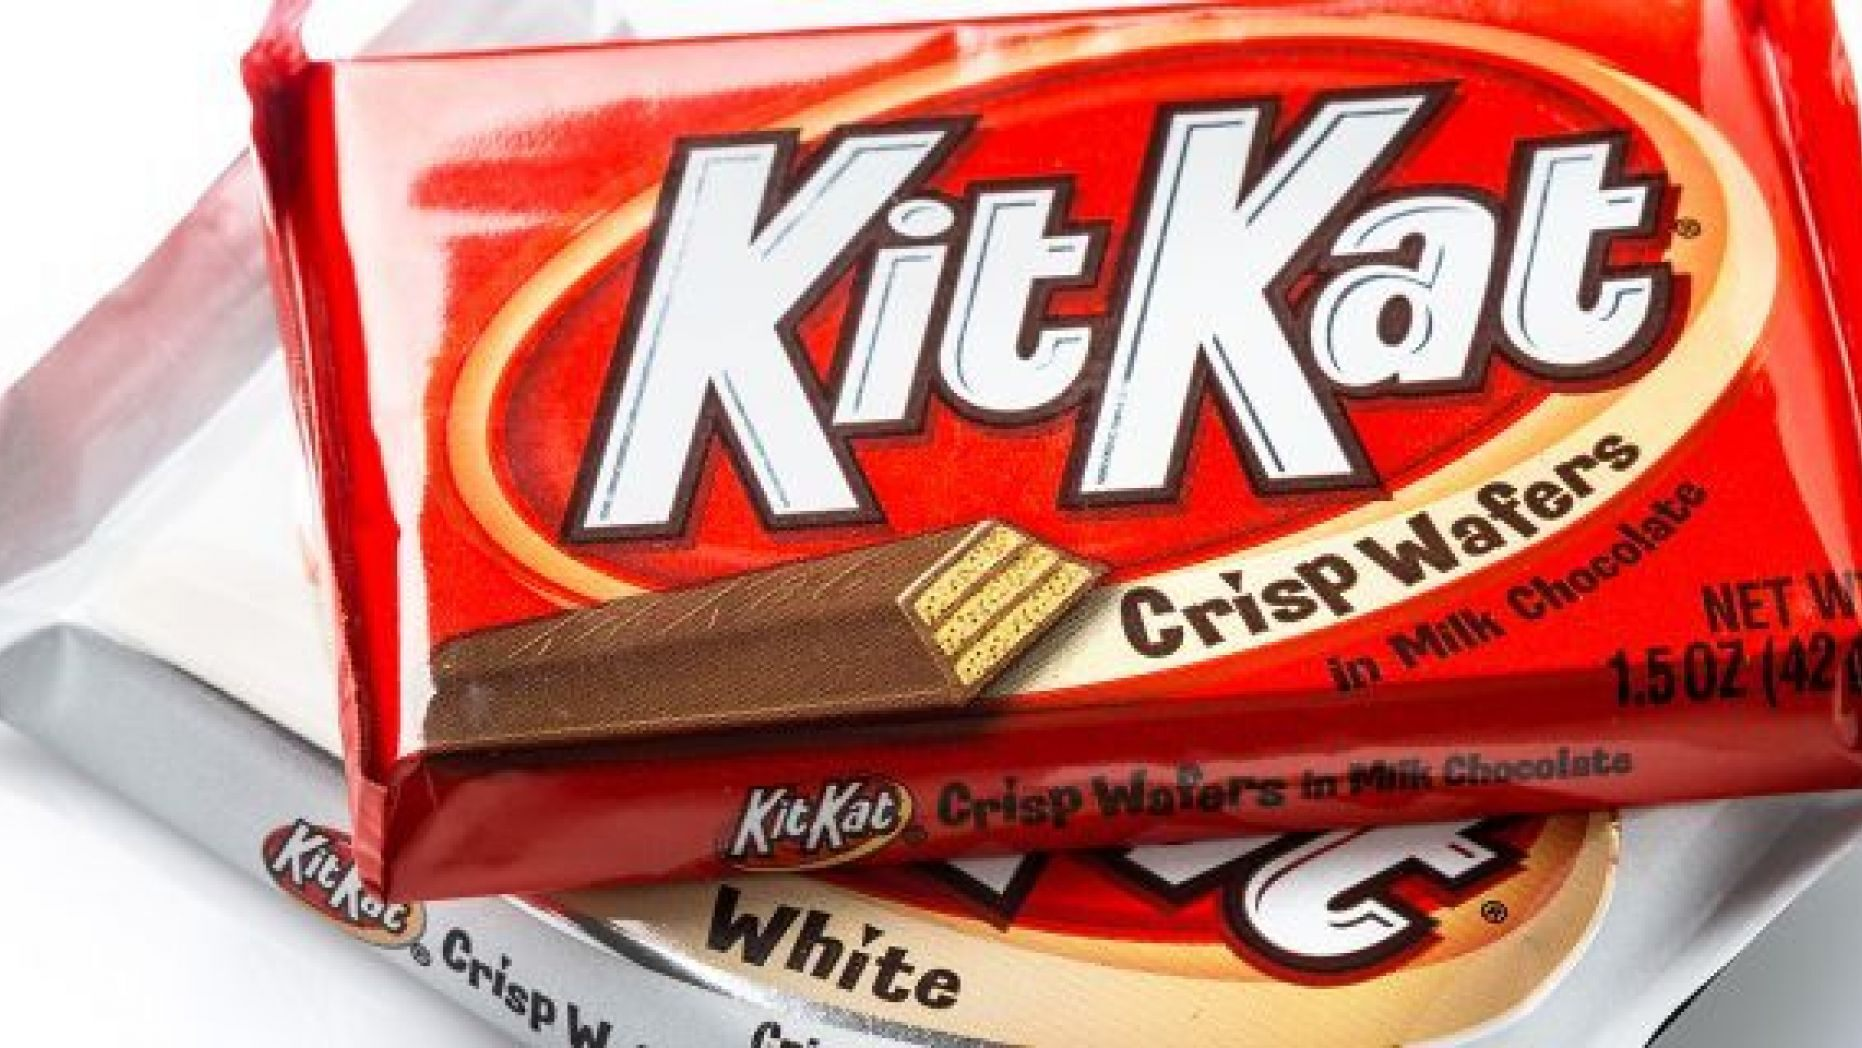kitkat: (223, 4, 1862, 885)
